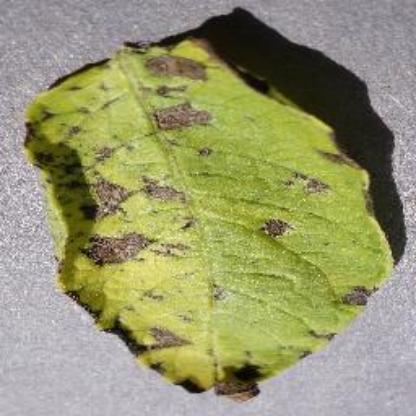Early-Blight: (24, 36, 390, 398)
